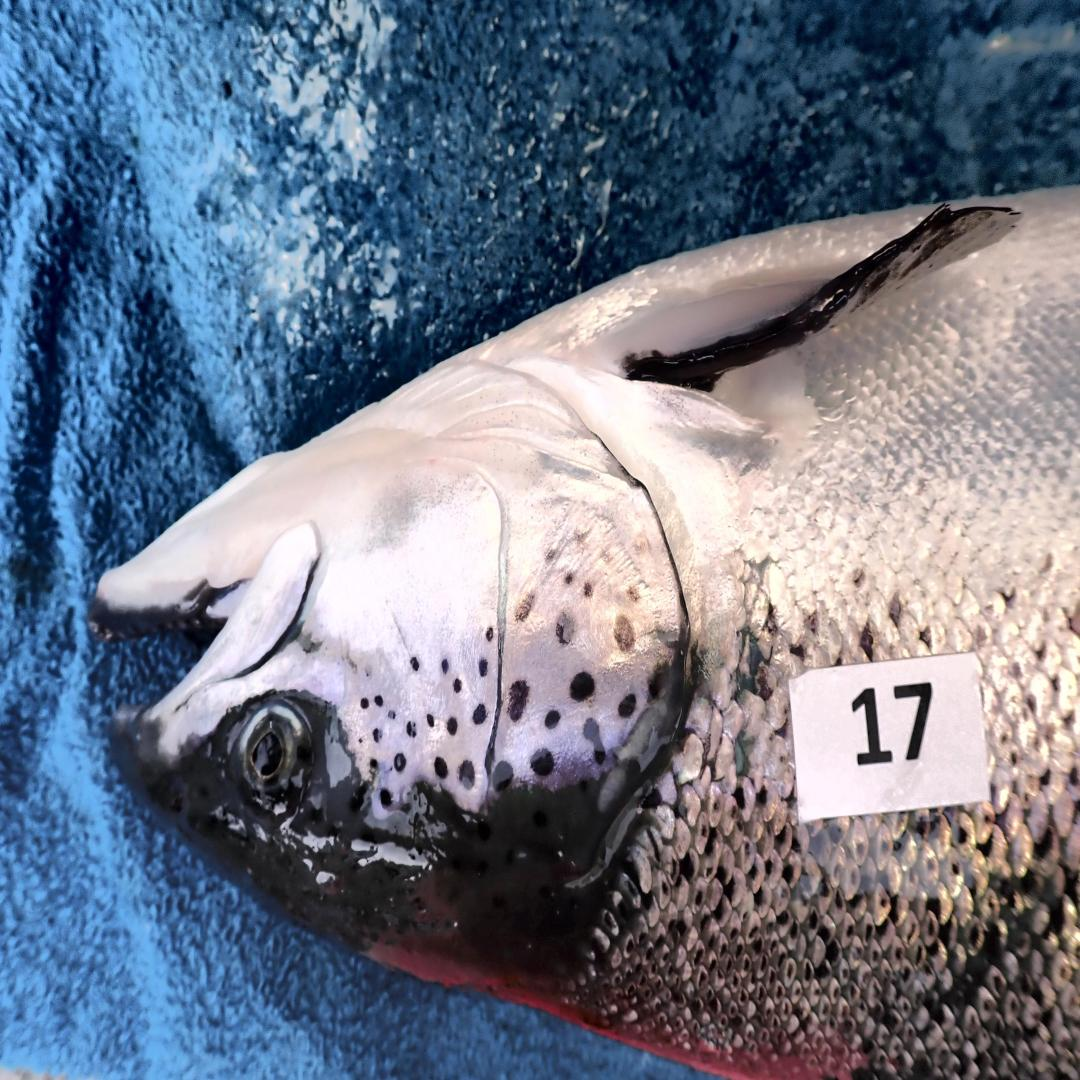spot: (582, 717, 605, 765), (648, 664, 675, 703), (508, 681, 529, 723), (614, 613, 635, 652), (529, 748, 555, 776), (555, 610, 576, 644), (570, 672, 595, 700), (491, 759, 513, 790), (515, 591, 536, 622), (458, 759, 475, 790), (624, 579, 641, 608), (618, 695, 637, 717), (378, 788, 394, 813), (472, 703, 487, 726), (544, 709, 559, 728), (435, 757, 447, 779), (394, 754, 407, 771), (371, 728, 384, 745), (447, 717, 458, 734), (582, 582, 593, 599), (426, 712, 437, 728), (369, 757, 380, 773), (479, 658, 487, 678), (373, 695, 384, 709), (386, 709, 397, 723), (411, 655, 420, 672), (407, 720, 416, 737), (545, 548, 556, 561), (485, 627, 494, 641), (454, 678, 462, 692), (441, 658, 449, 672), (564, 573, 573, 584), (361, 698, 369, 709), (359, 737, 363, 745)
